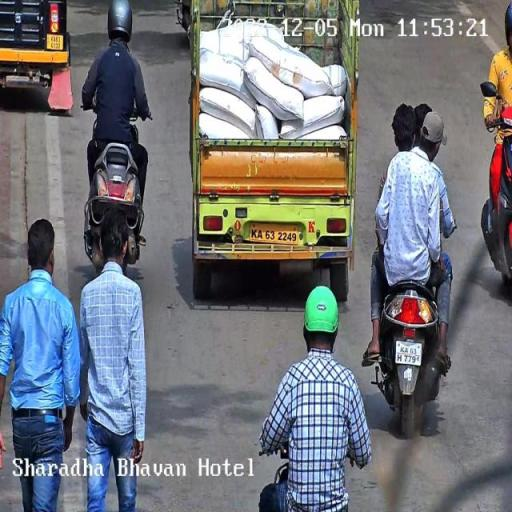tripple riding: (372, 99, 462, 282)
